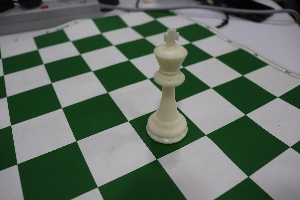white_king: (141, 18, 194, 147)
